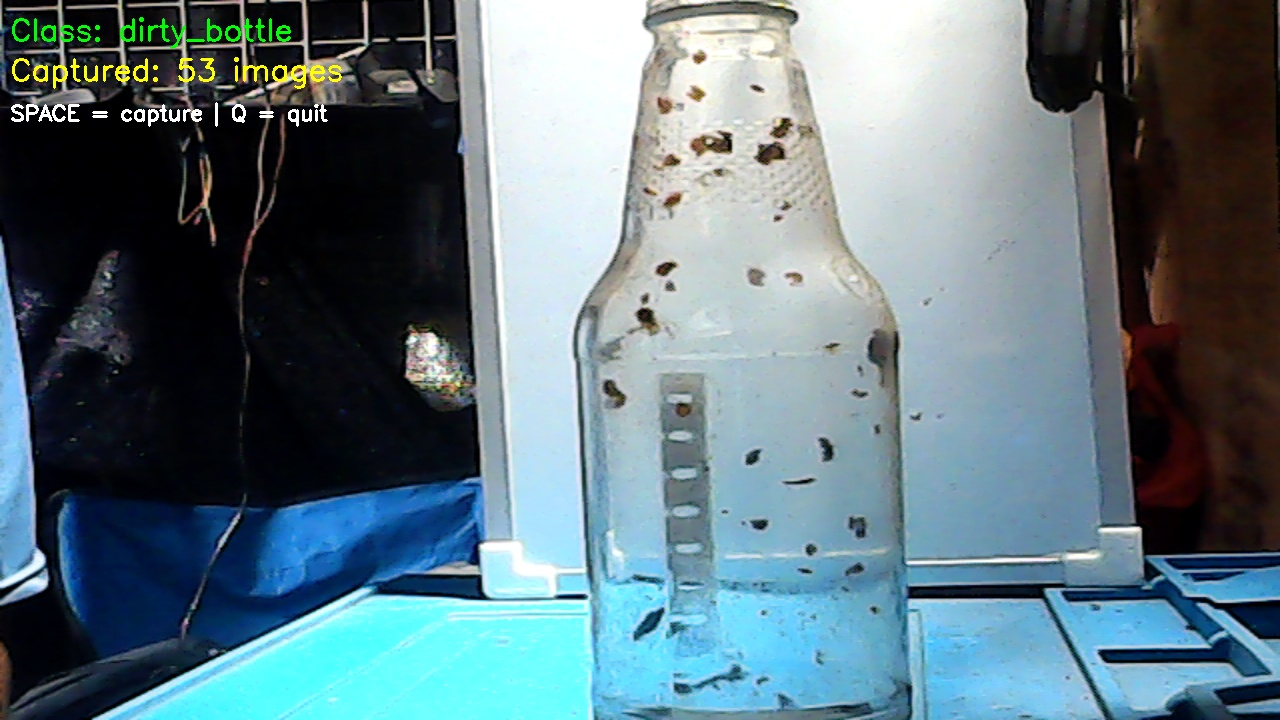dirty_bottle: (550, 6, 917, 718)
